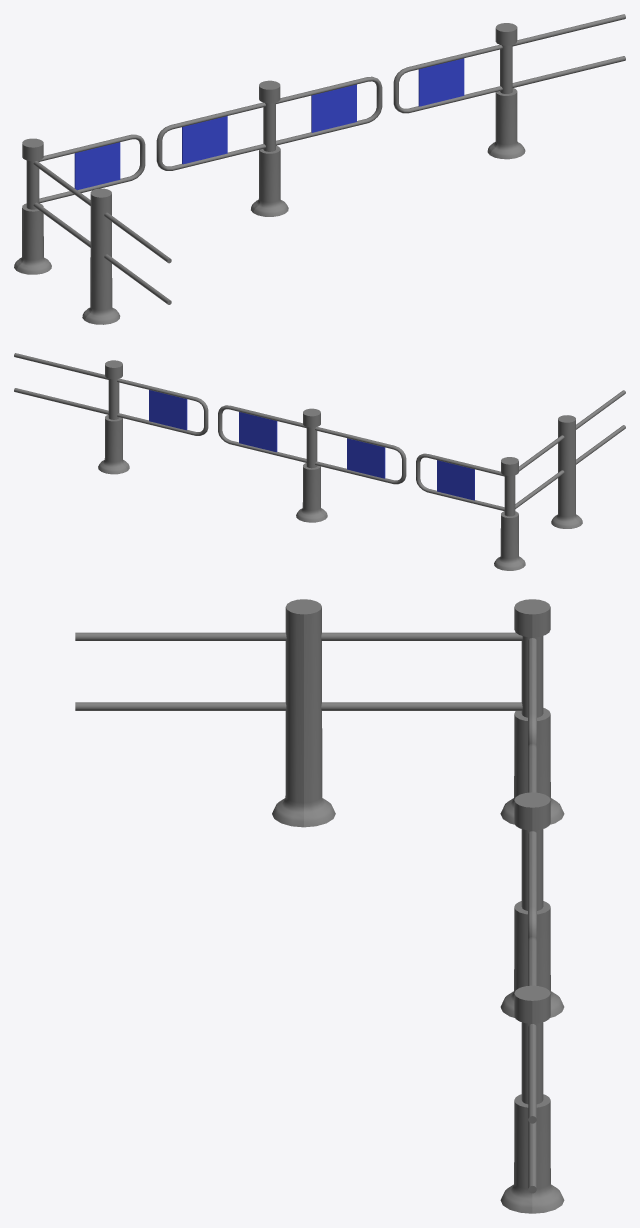
The model's file is Départ.fbx.
3 renders of one model, top to bottom at view 1: azimuth 30°, elevation 25°; view 2: azimuth 150°, elevation 25°; view 3: azimuth 270°, elevation 25°, orthographic. The views are drawn at different scales.
Visible parts, largest first — view 1: Cylinder.000, Cylinder.001, Cylinder.003, Cylinder.002, Cylinder.004; view 2: Cylinder.000, Cylinder.003, Cylinder.001, Cylinder.002, Cylinder.004; view 3: Cylinder.000, Cylinder.002, Cylinder.004.
Part boxes in pixels (x1=…): Cylinder.000: x1=14, y1=14, x2=625, y2=324; Cylinder.001: x1=393, y1=44, x2=502, y2=113; Cylinder.003: x1=156, y1=102, x2=265, y2=170; Cylinder.002: x1=276, y1=76, x2=382, y2=145; Cylinder.004: x1=39, y1=134, x2=145, y2=203; Cylinder.000: x1=14, y1=353, x2=625, y2=570; Cylinder.003: x1=315, y1=427, x2=406, y2=484; Cylinder.001: x1=117, y1=378, x2=208, y2=435; Cylinder.002: x1=218, y1=405, x2=306, y2=462; Cylinder.004: x1=416, y1=453, x2=504, y2=511; Cylinder.000: x1=75, y1=599, x2=564, y2=1213; Cylinder.002: x1=528, y1=831, x2=536, y2=939; Cylinder.004: x1=528, y1=638, x2=536, y2=746.
Size of the model in its own units: 514 by 99.92 by 214.
